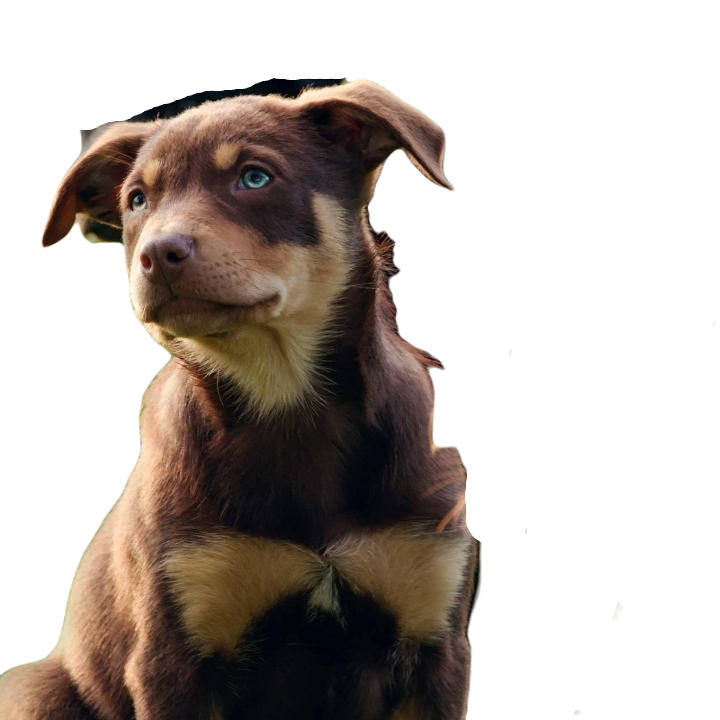Dog: (0, 94, 493, 719)
